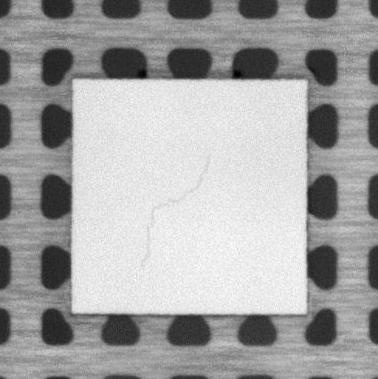DIE_CRACK: (137, 154, 212, 274)
